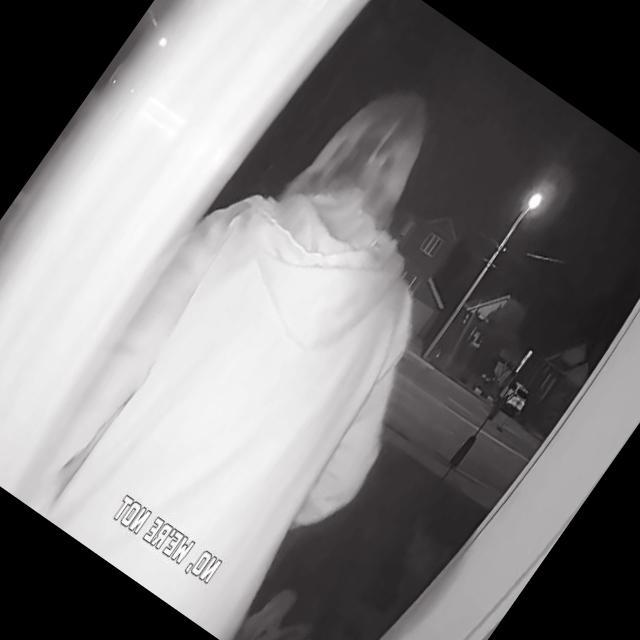person: (0, 31, 559, 640)
